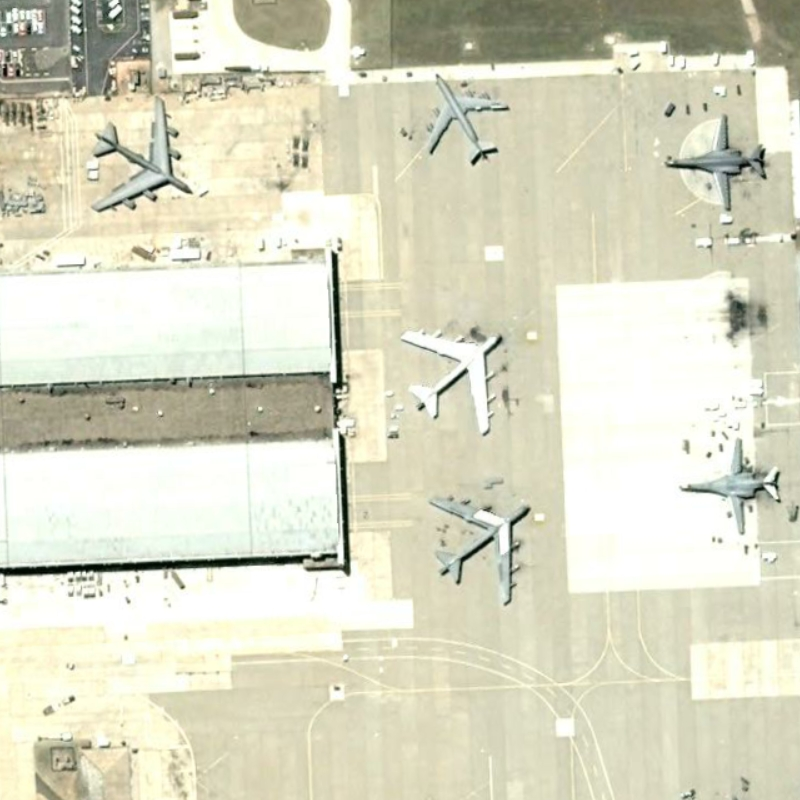A10: (676, 428, 787, 540), (658, 110, 775, 216)
A14: (419, 69, 516, 167)
A8: (426, 480, 540, 613), (83, 93, 202, 219), (393, 311, 510, 439)
